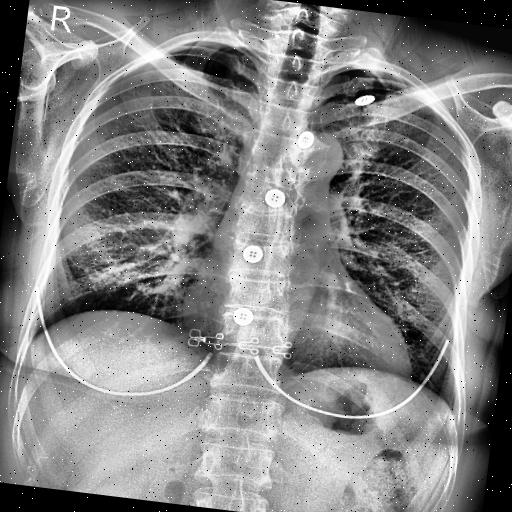0- Aortic enlargement: (287, 128, 346, 196), (282, 126, 346, 186), (293, 129, 346, 177)
11- Pleural thickening: (166, 36, 222, 60)
3- Cardiomegaly: (174, 266, 420, 385), (176, 282, 418, 385), (175, 278, 419, 380)
